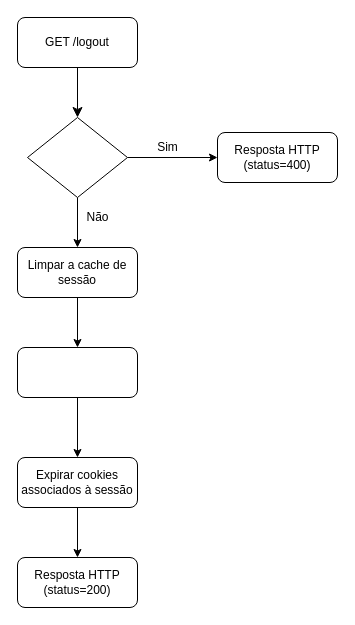
The diagram is 355 pixels wide and 625 high, and some of its shapes have lost their labels. Each missing label, with the centre of its shape:
Limpar a cache de dados: point 77,372
Logged out: point 77,157
